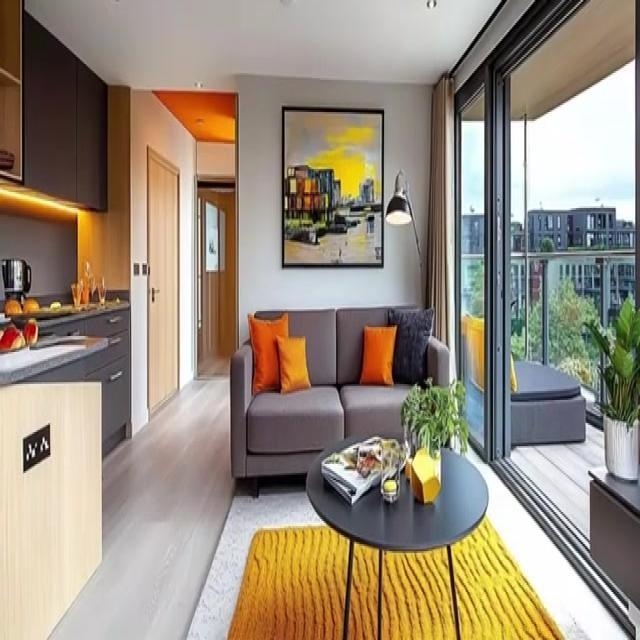door: (146, 144, 179, 418)
obstacle: (229, 304, 453, 498), (305, 432, 489, 638)
